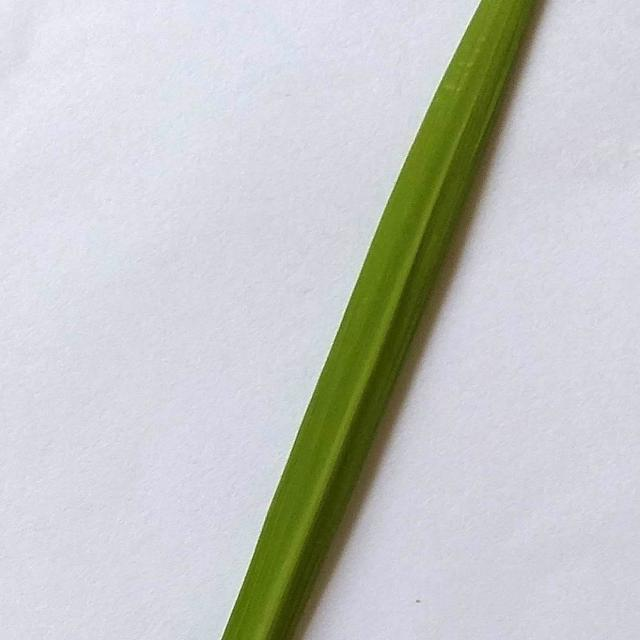Rice_Healthy: (221, 0, 534, 639)
